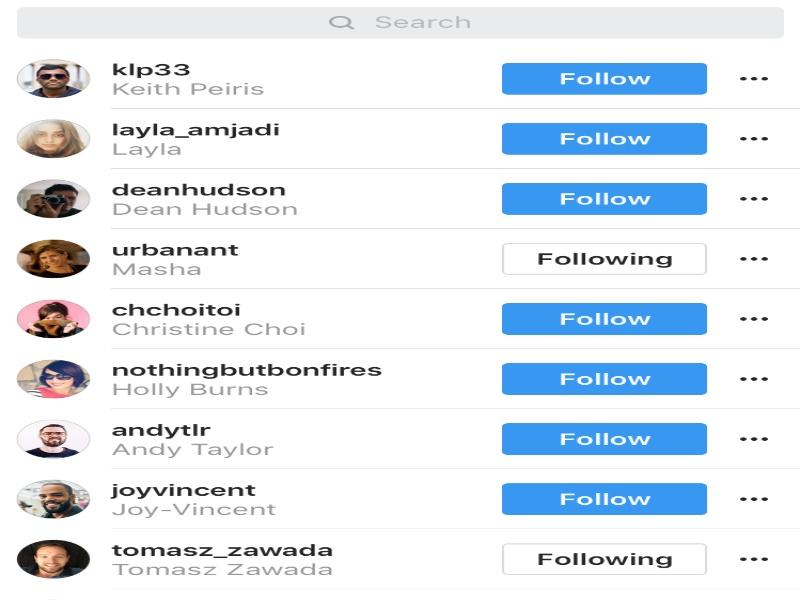follow: (494, 53, 715, 105), (496, 233, 713, 282), (497, 176, 711, 220), (496, 536, 710, 580), (496, 478, 712, 521), (496, 417, 710, 460), (497, 358, 710, 398), (496, 120, 712, 159), (500, 298, 709, 338)
